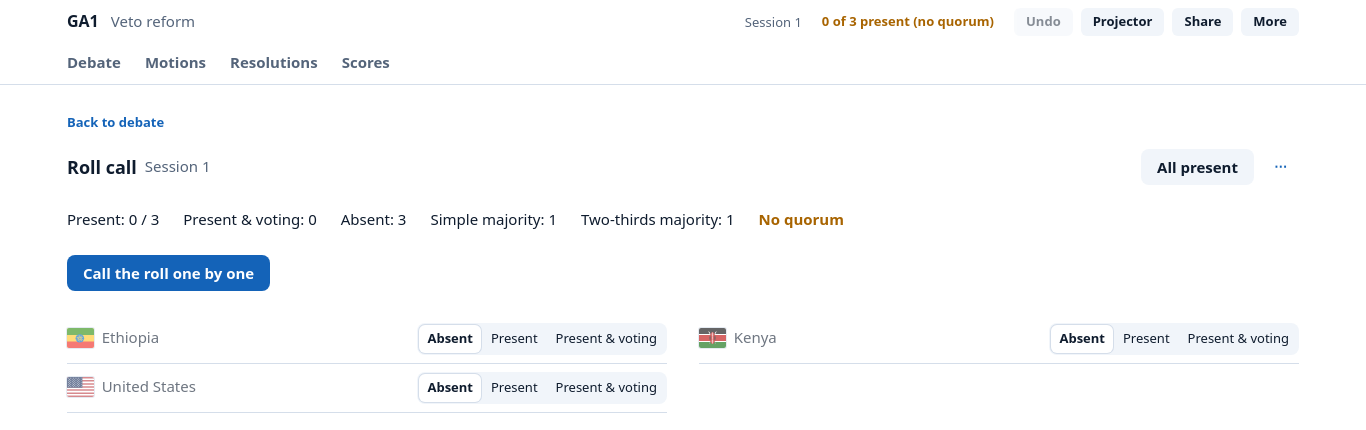
Scenario: ChairLayout › shows four tabs and switches between them
The width and height of the screenshot is (1366, 430).
Step 1. Click the tab "Scores" → (366, 64), box [342,44,390,84]
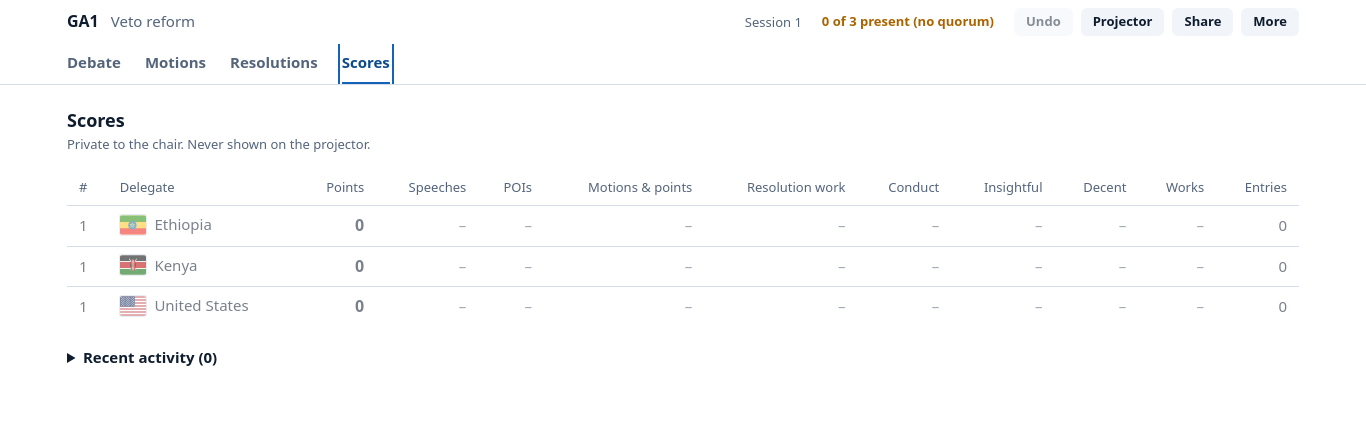
expect the element named "Leaderboard" is shown: met, box [67,109,1299,373]
expect the button "Back to debate" is gone: met
